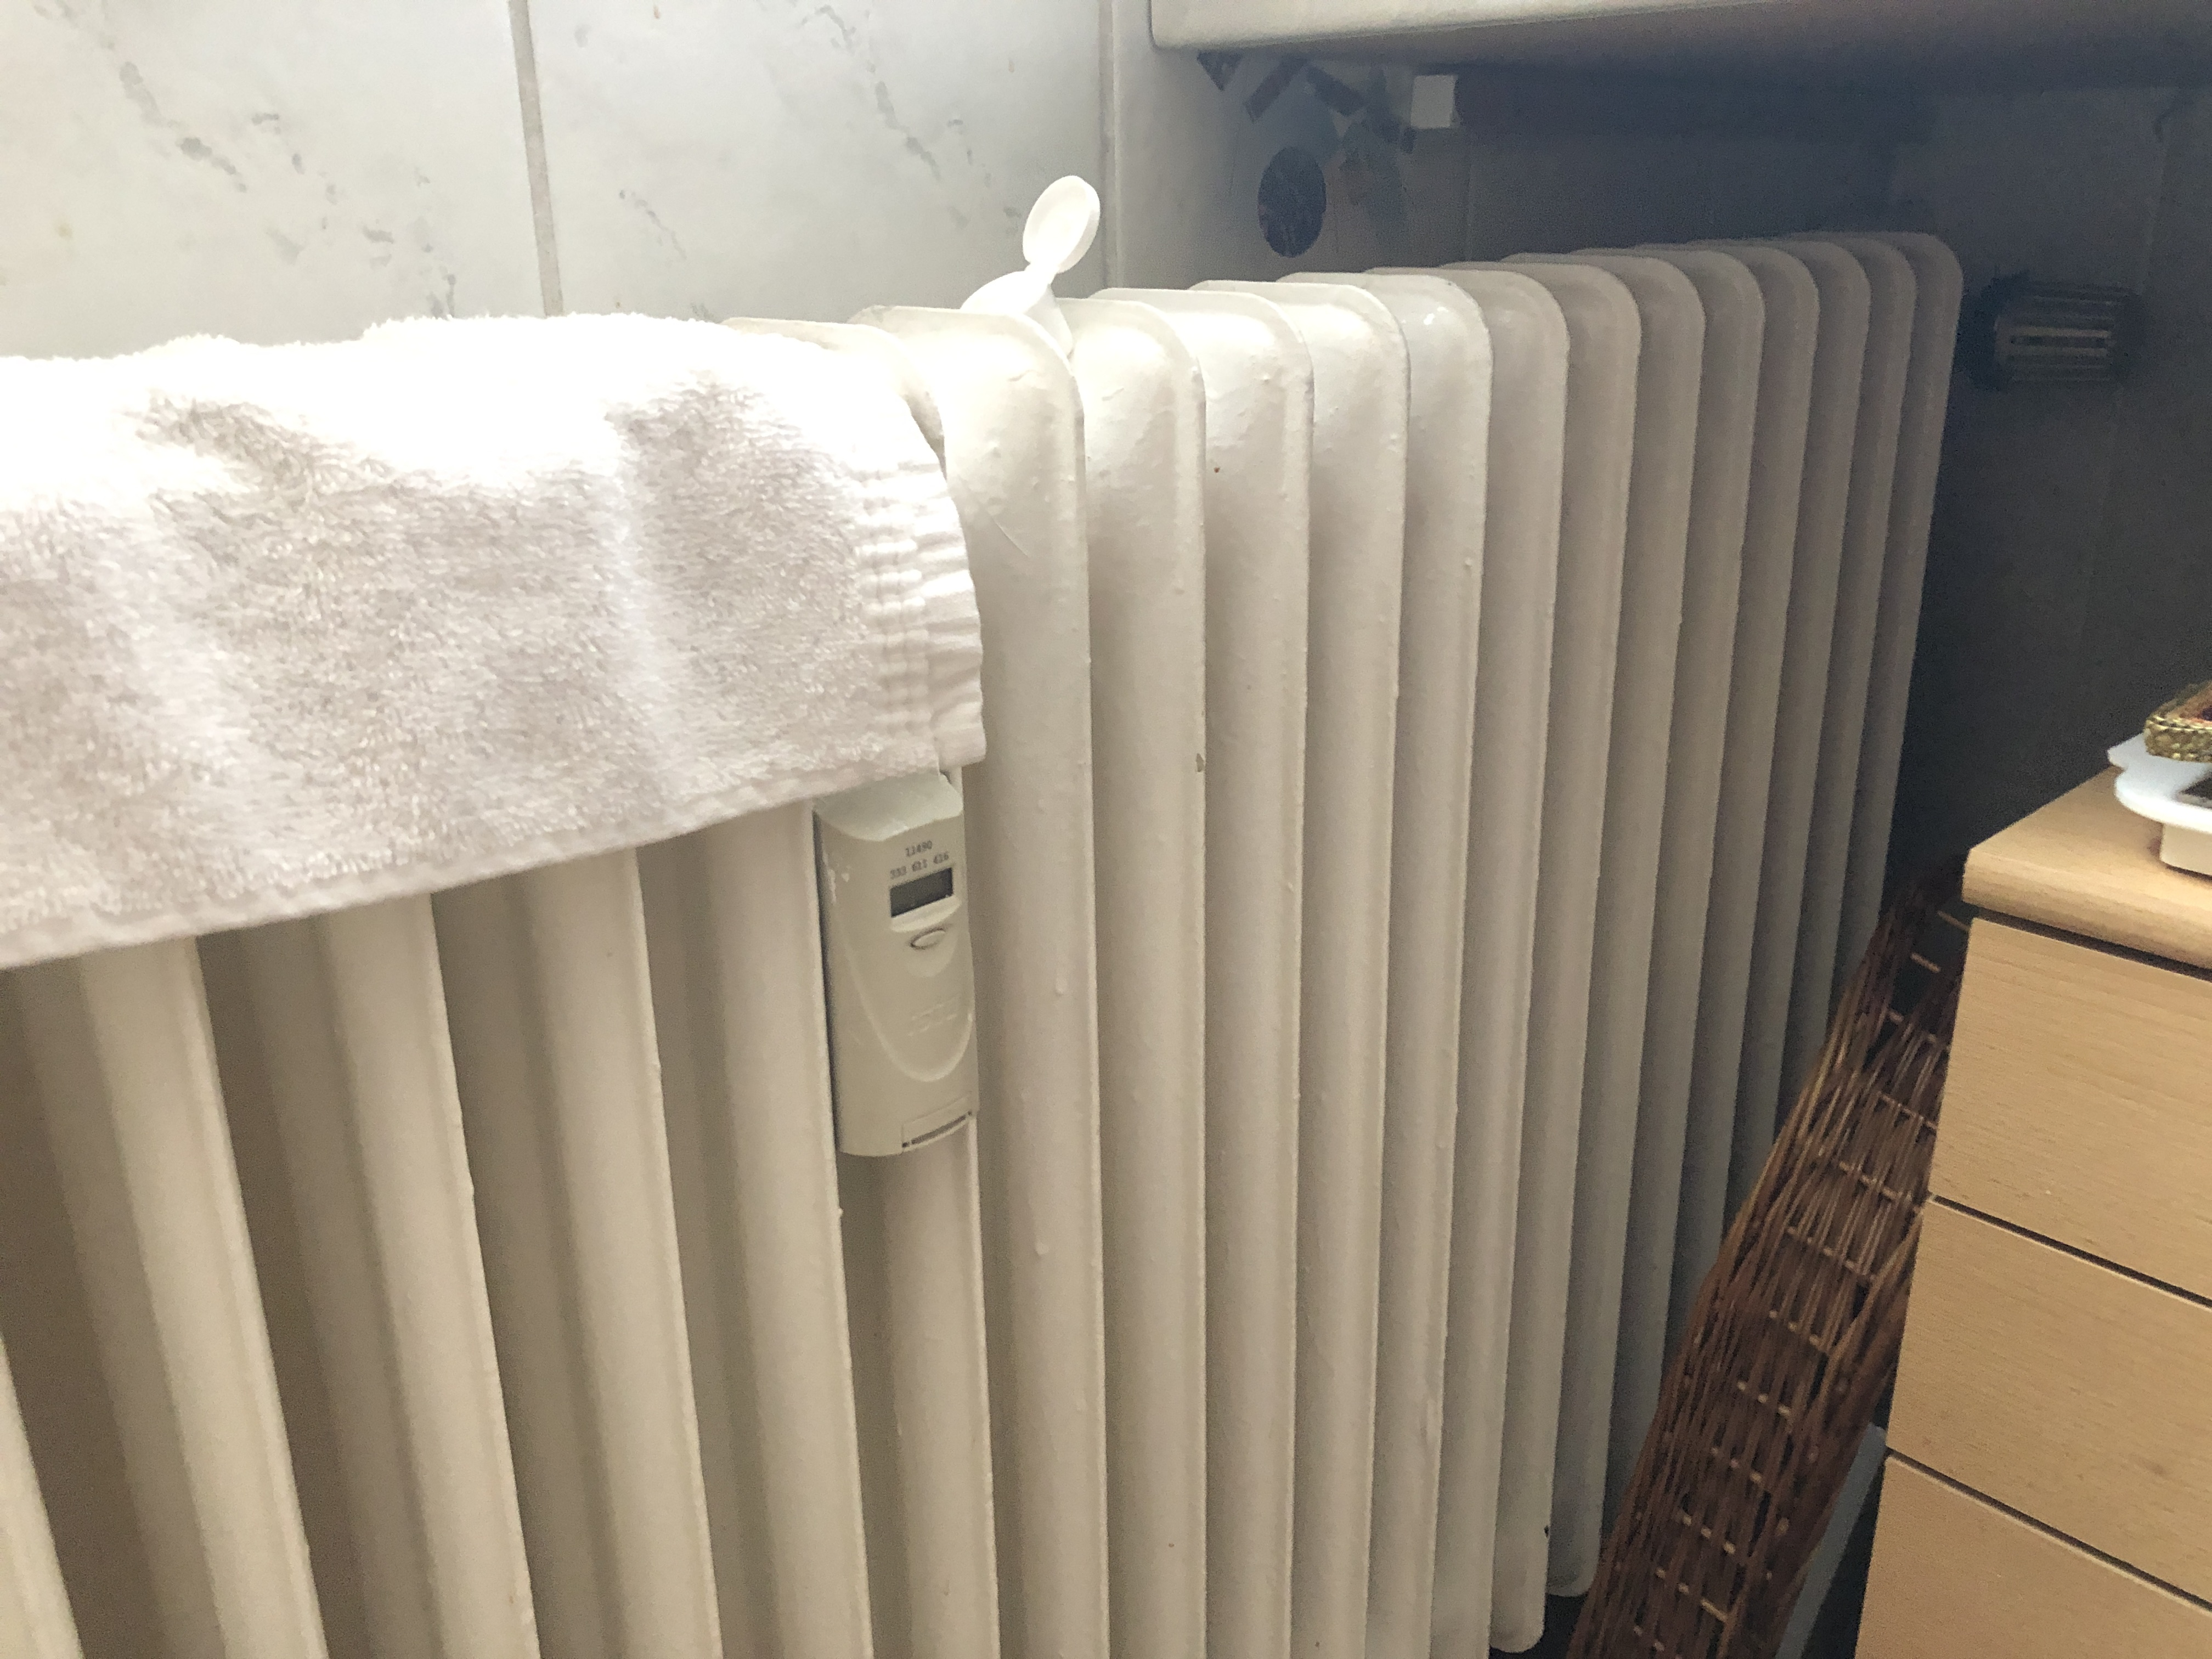Radiator: (0, 186, 1984, 1659)
